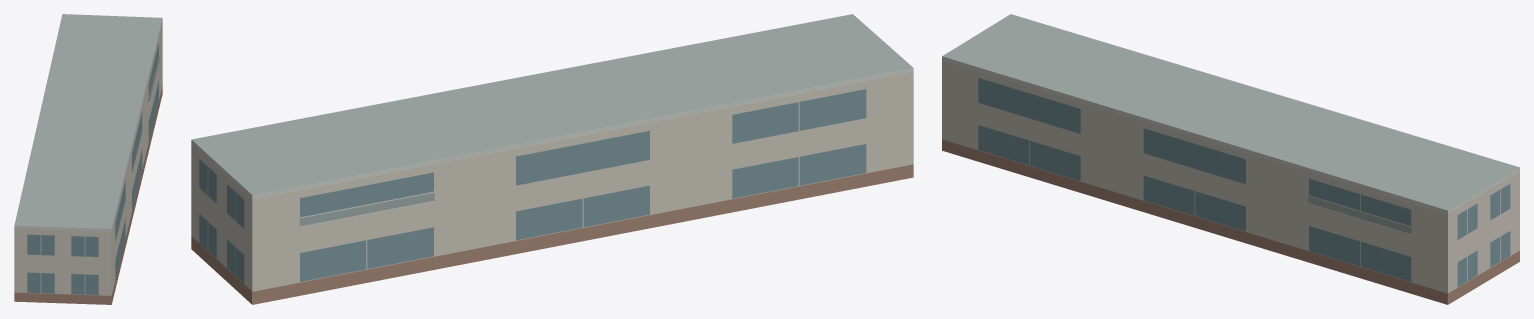
File: survey-upis-32880594.glb
3 renders of one model, left to right at view 1: azimuth 30°, elevation 25°; view 2: azimuth 150°, elevation 25°; view 3: azimuth 270°, elevation 25°, orthographic. The views are drawn at different scales.
Parts seen in each view (by area): view 1: survey-upis-32880594.tmp; view 2: survey-upis-32880594.tmp; view 3: survey-upis-32880594.tmp.
Part boxes in pixels (x1=…): survey-upis-32880594.tmp: x1=14, y1=14, x2=162, y2=304; survey-upis-32880594.tmp: x1=191, y1=14, x2=913, y2=304; survey-upis-32880594.tmp: x1=942, y1=14, x2=1519, y2=304.
Size of the model in its own units: 27.25 by 6.1 by 33.85.
